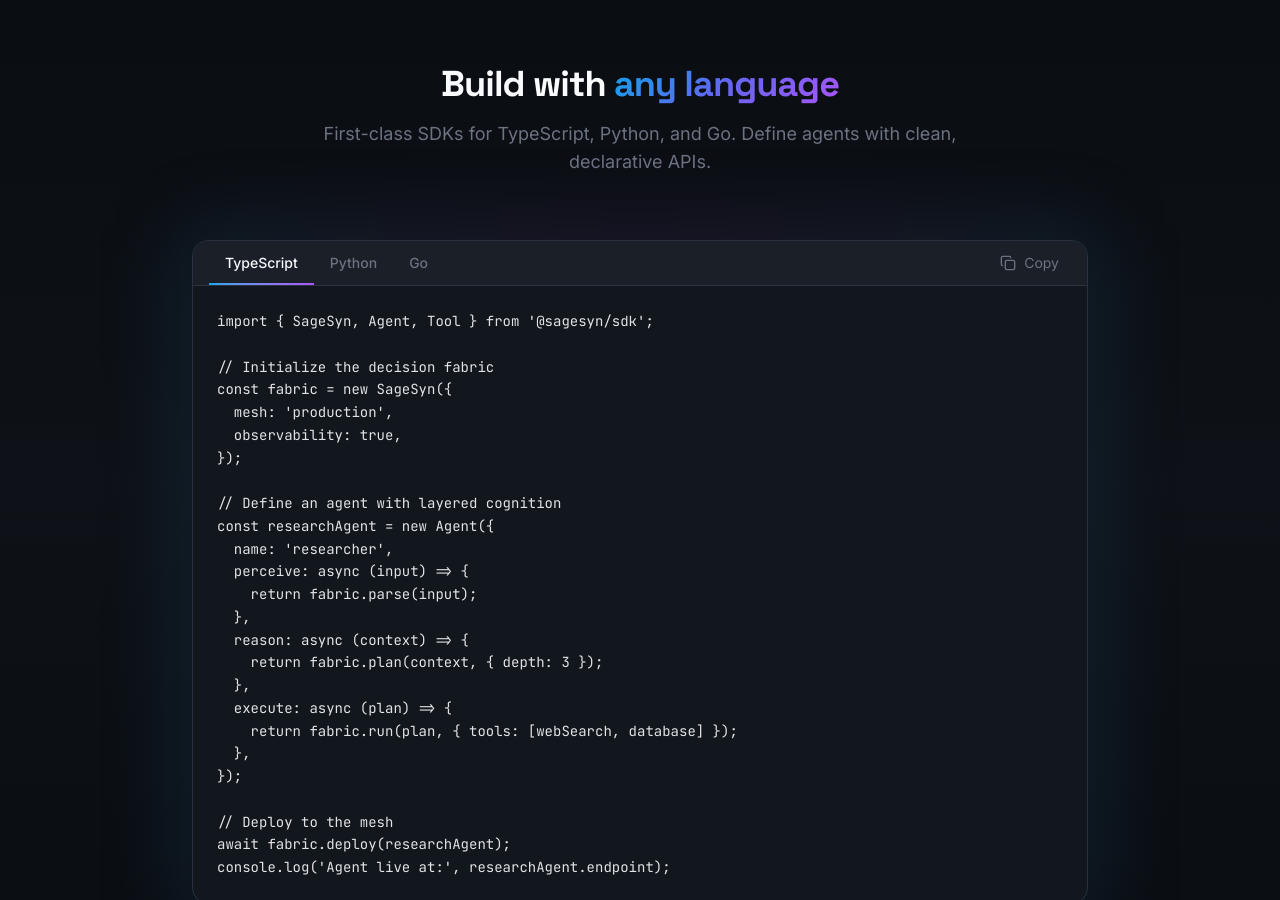
CodeShowcase component › switches to Python code when Python tab is clicked
Click the button "Python". click: (353, 263)
box: [314,241,393,285]
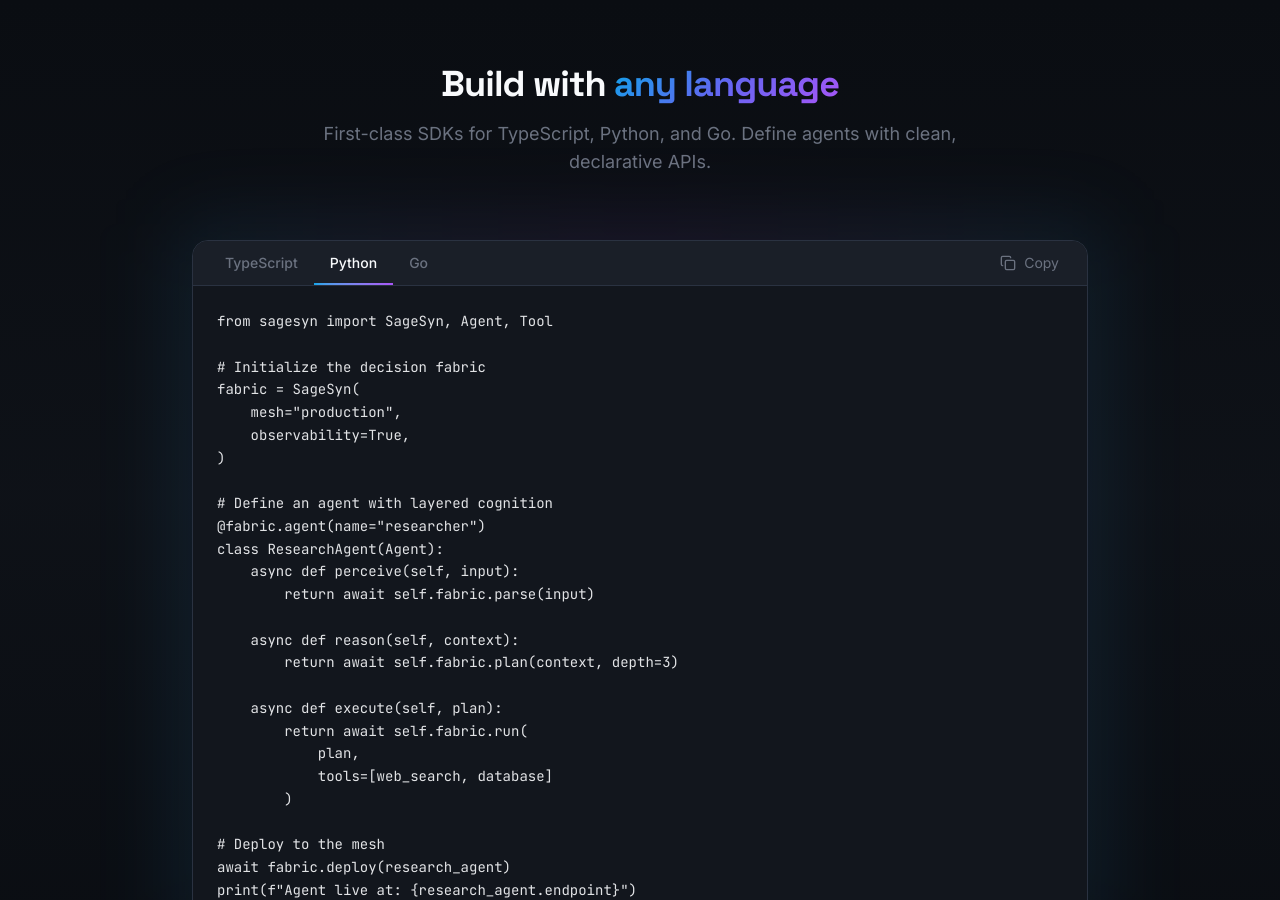
Expected: the text "from sagesyn import" is shown, [217,312,679,899]
